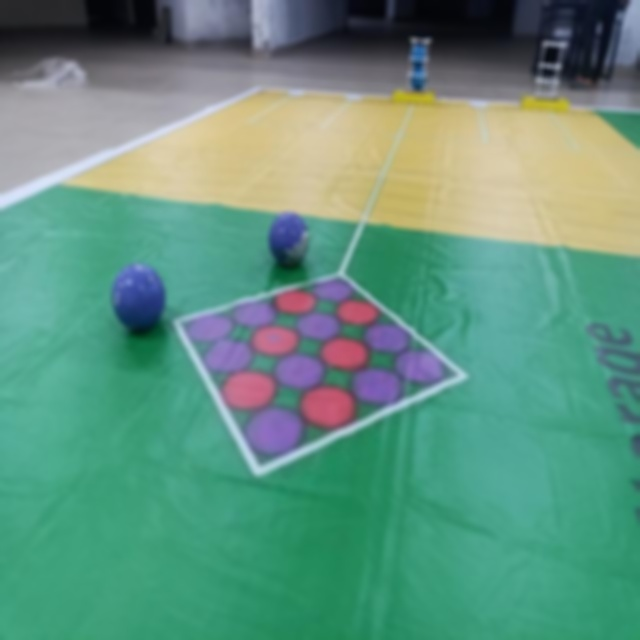purple_ball: (110, 260, 166, 334), (268, 211, 310, 269)
